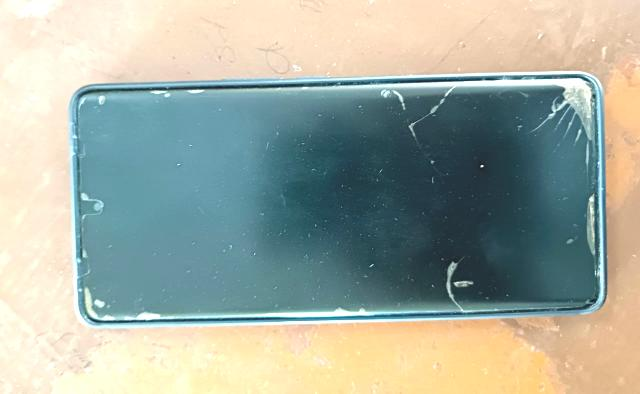Crack: (519, 78, 595, 160)
